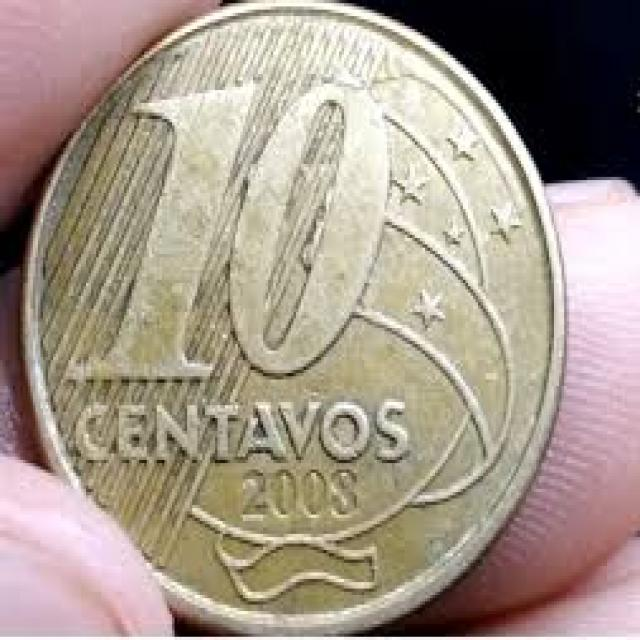10 cent: (38, 11, 545, 603)
